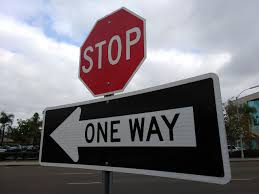oneWay: (42, 106, 222, 171)
stop: (79, 7, 145, 91)
